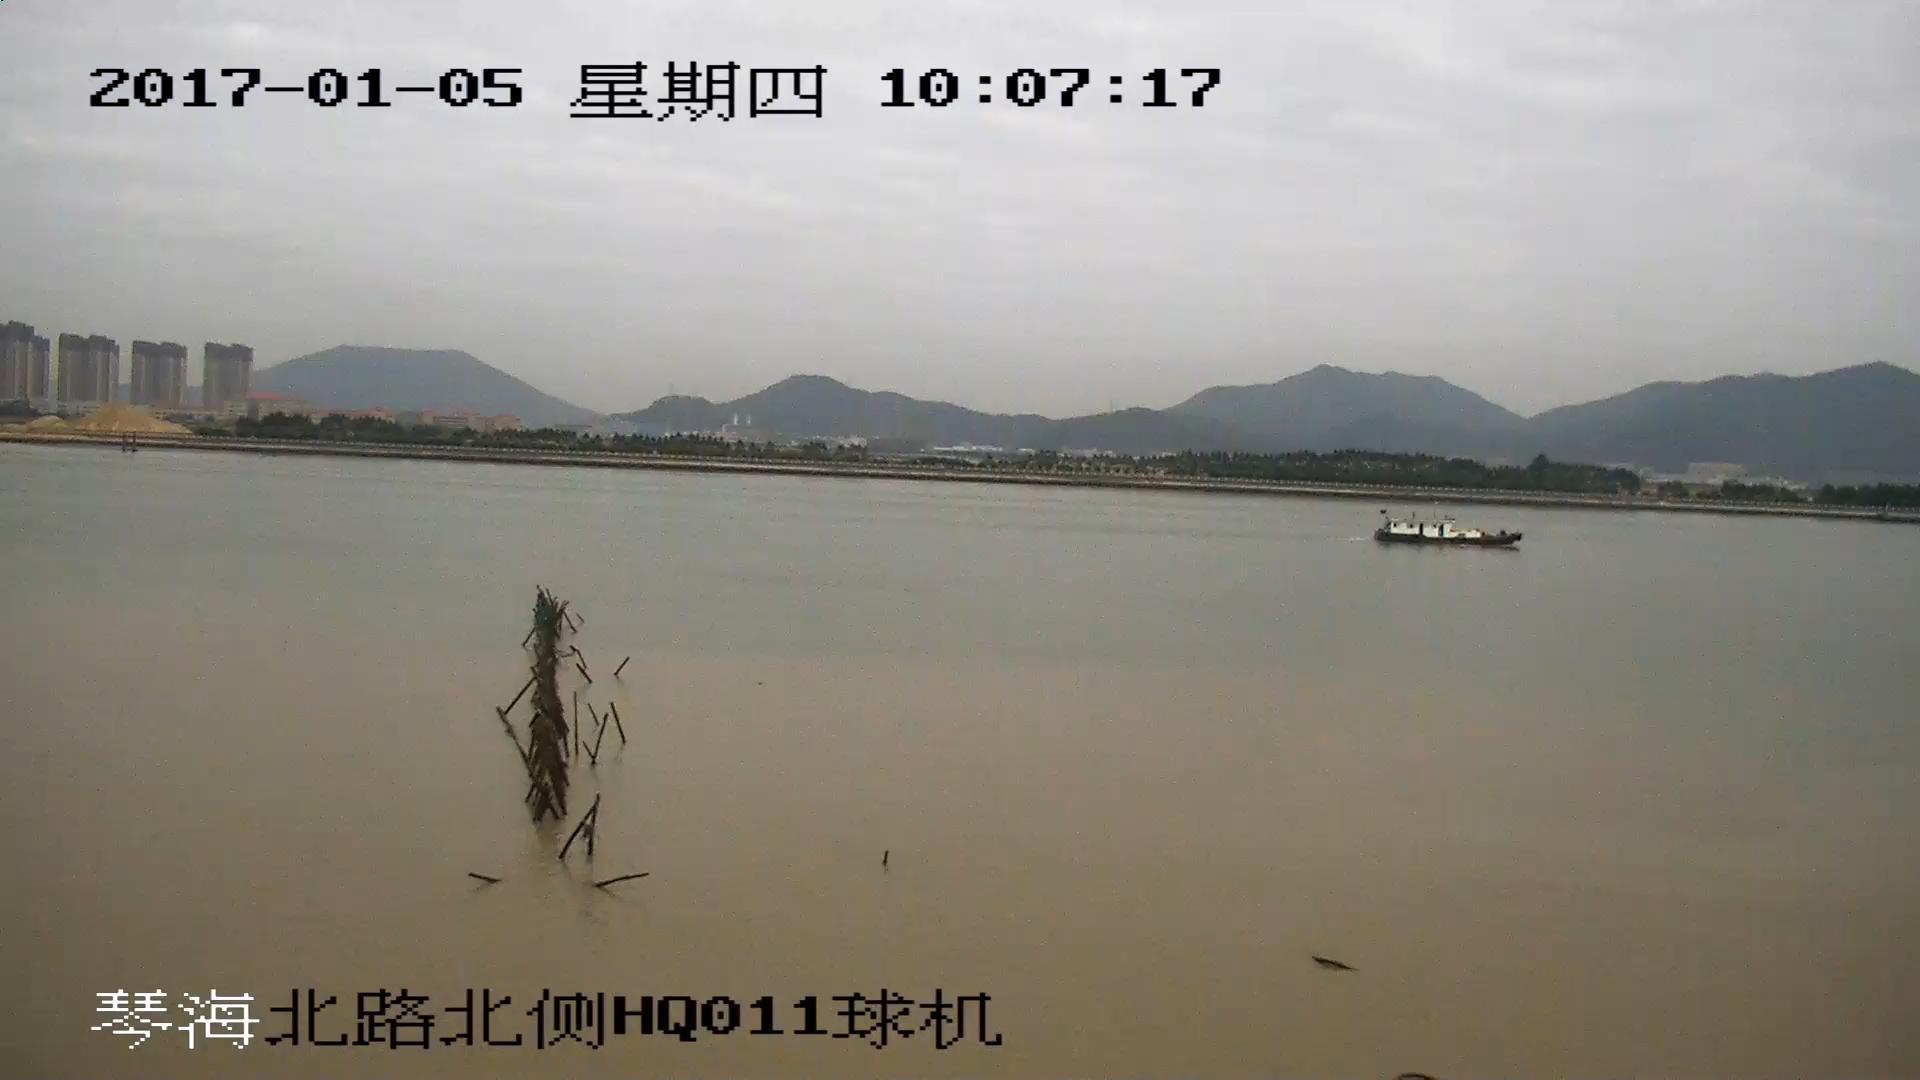fishing boat: (1374, 513, 1525, 550)
